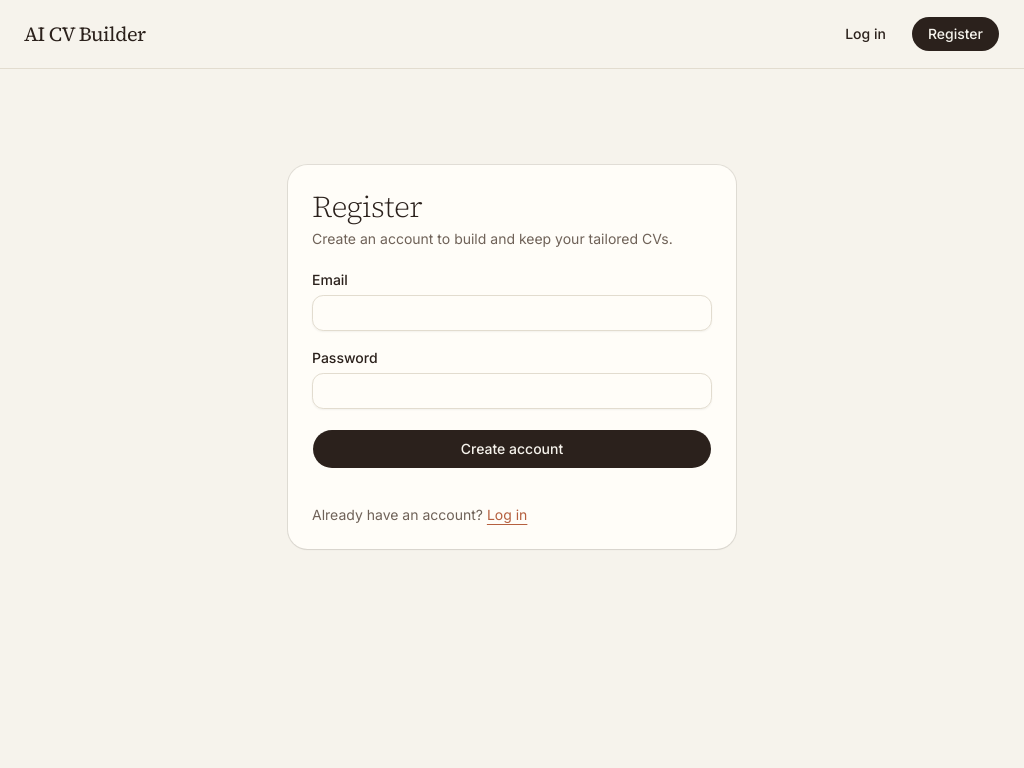
Test case: AuthForm › requires 8 characters in the password when registering
In the field labelled "Email": x=512, y=313 left=312, top=295, right=712, bottom=331, type "jordan@example.com"
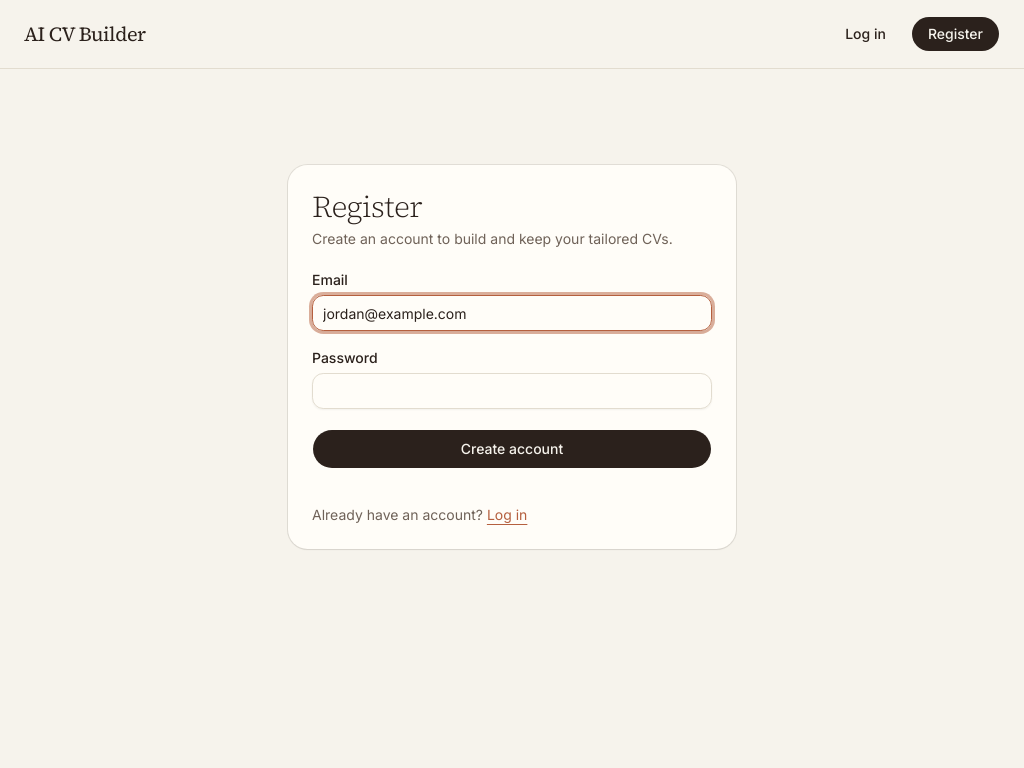
In the password field labelled "Password": x=512, y=391 left=312, top=373, right=712, bottom=409, type "short"
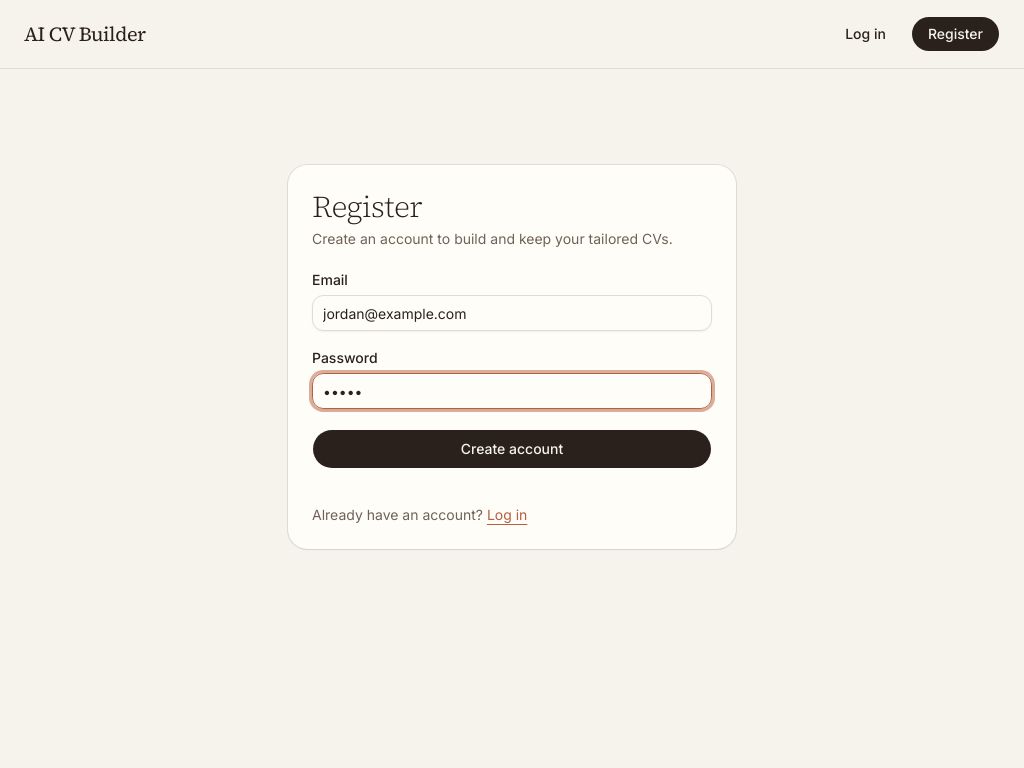
Click the button "Create account": x=512, y=449 left=312, top=429, right=712, bottom=469
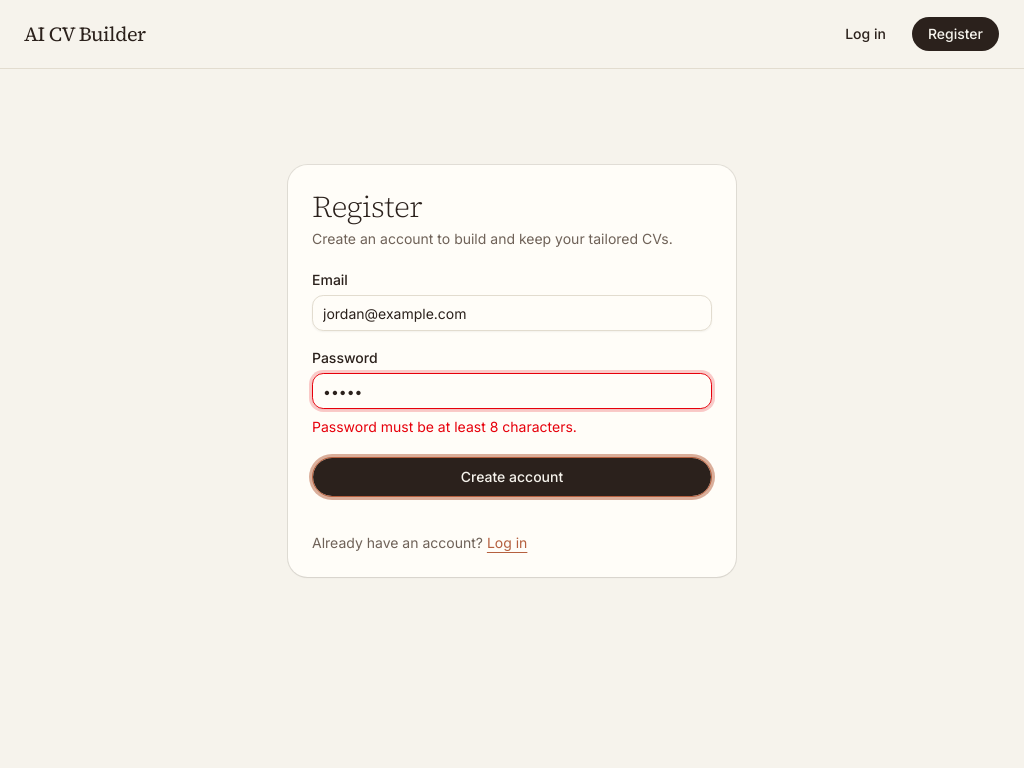
Now the text "Password must be at least 8 characters." is shown, box left=312, top=418, right=577, bottom=435
